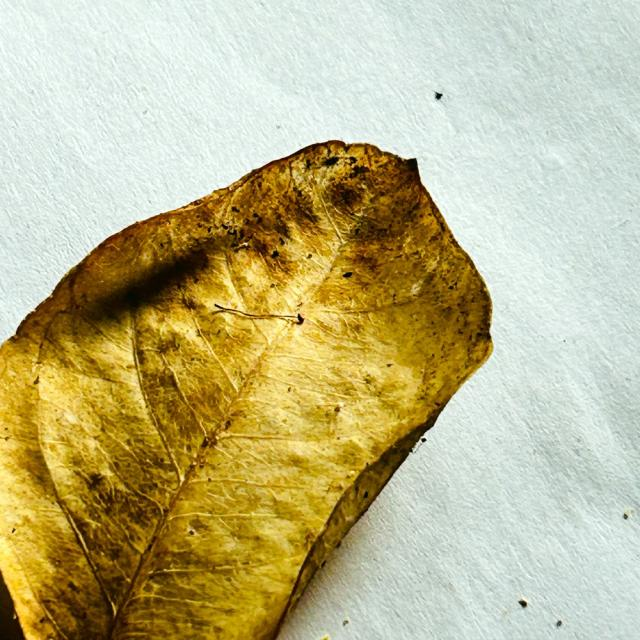DryLeaf_Lemon: (0, 141, 492, 639)
